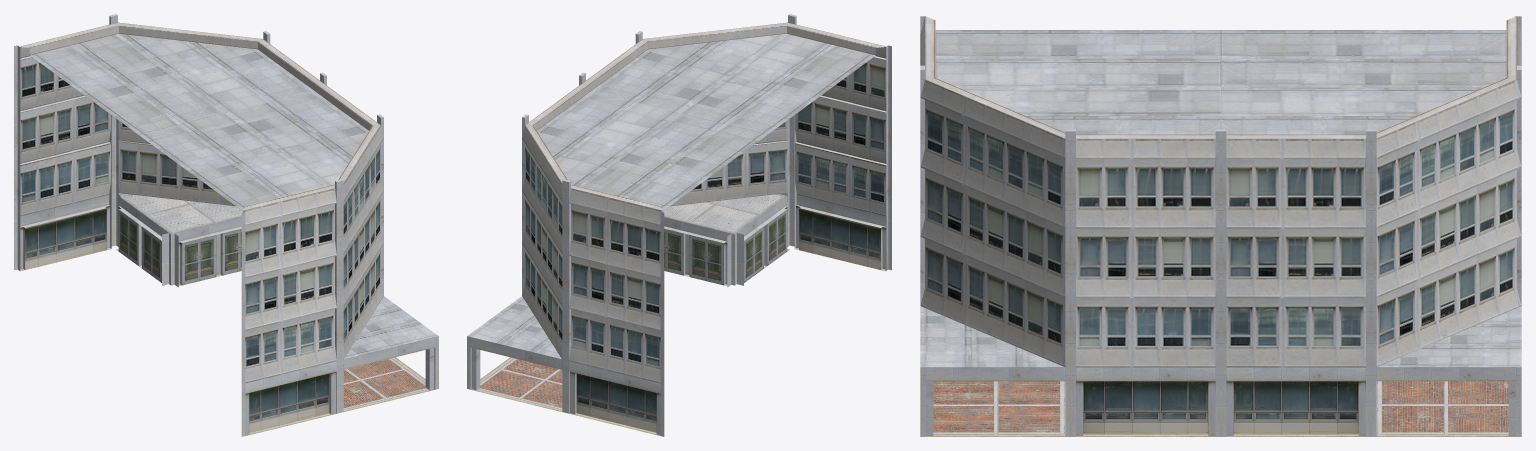
Rendered from build2.FBX.
3 renders of one model, left to right at view 1: azimuth 30°, elevation 25°; view 2: azimuth 150°, elevation 25°; view 3: azimuth 270°, elevation 25°, orthographic. The views are drawn at different scales.
Visible parts, largest first — view 1: StyleD-Building1; view 2: StyleD-Building1; view 3: StyleD-Building1.
Boxes of the visible parts, x1,y1,x2,y2 form: StyleD-Building1: (14, 14, 438, 436); StyleD-Building1: (467, 14, 891, 436); StyleD-Building1: (920, 16, 1521, 436).
Bounding box in the file's own units: 1400 × 1571 × 2800.
